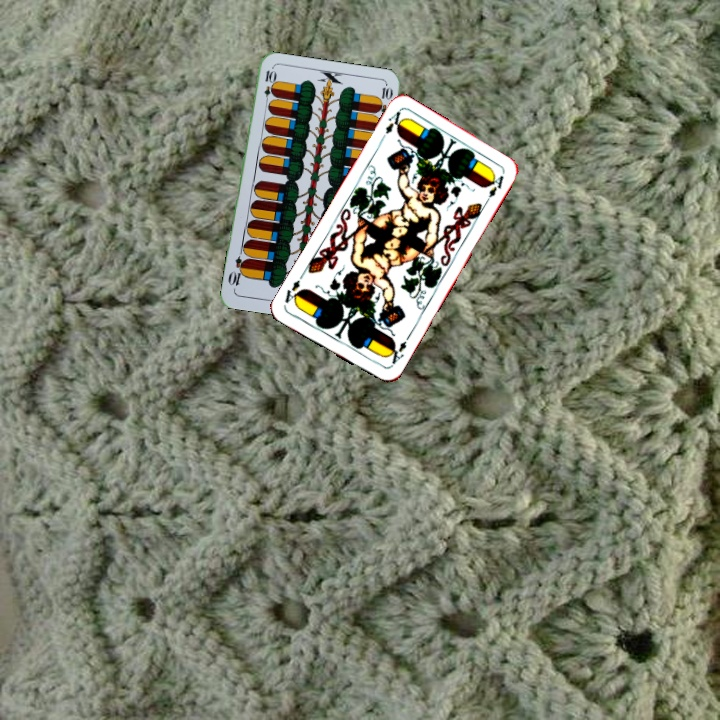E10: (260, 66, 276, 107)
EA: (383, 332, 412, 369), (381, 107, 405, 137)
